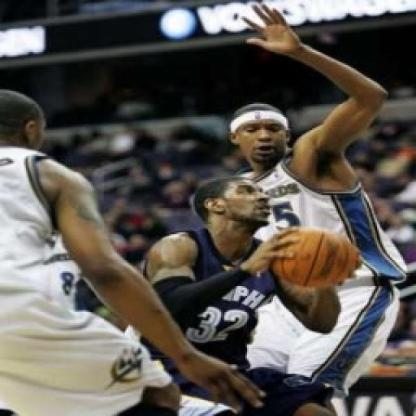basketball: (268, 224, 361, 292)
